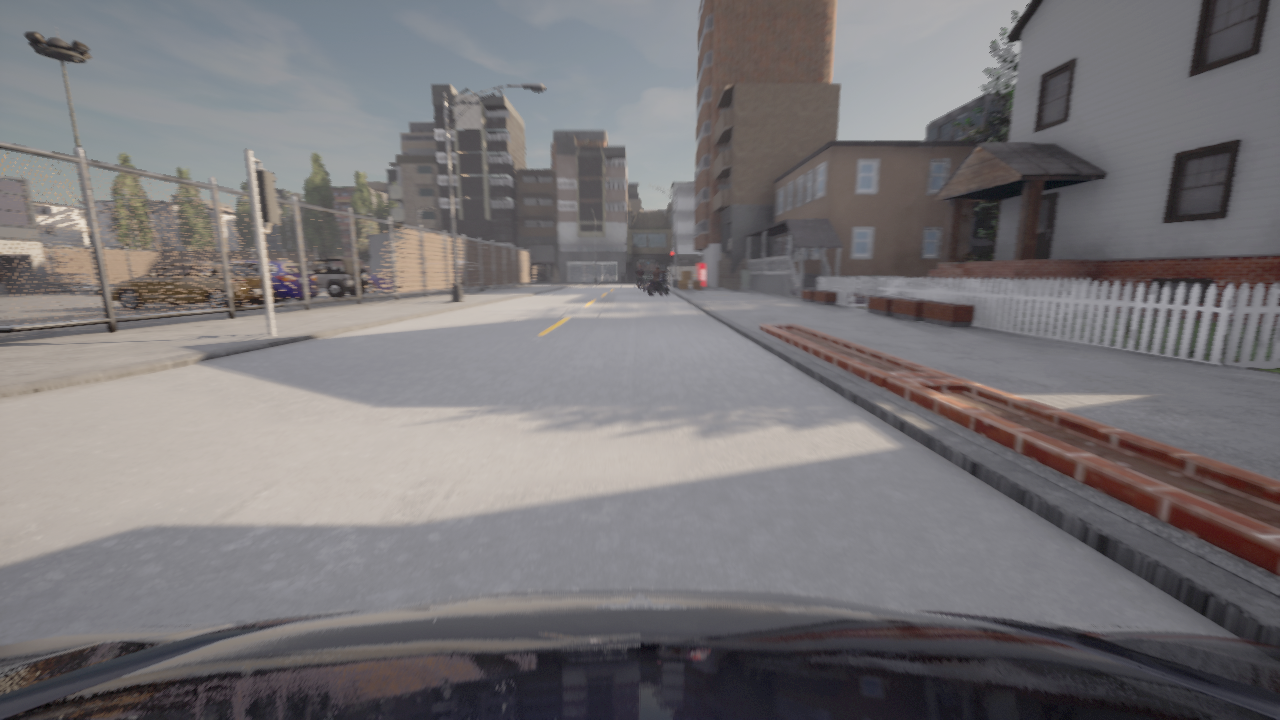cyclist: (0, 588, 1279, 719), (111, 262, 271, 309), (228, 259, 318, 303), (307, 257, 369, 297), (366, 267, 431, 292), (425, 261, 478, 287), (427, 271, 464, 289), (646, 274, 668, 294), (638, 279, 641, 290), (285, 298, 290, 299)
